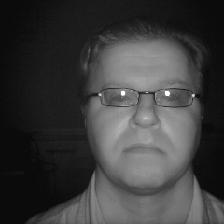normal: (78, 23, 207, 192)
